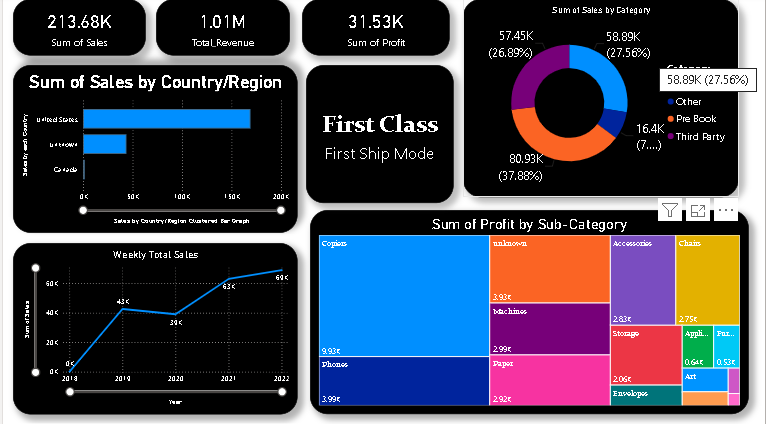

The page's visual inventory and layout, read from the dashboard file:
{"tool":"powerbi","page":{"name":"Page 5","canvas":[1280,720],"ordinal":2},"visuals":[{"type":"card","fields":{"Values":["Sheet1.Total_Revenue"]},"box":[256.7,5,225,95],"z":0},{"type":"card","fields":{"Values":["Sum(Sheet1.Sales)"]},"box":[16.7,5,223.3,95],"z":1000},{"type":"clusteredBarChart","fields":{"Category":["Sheet1.Country/Region"],"Y":["Sum(Sheet1.Sales)"]},"box":[16.7,116.7,478.3,281.7],"z":2000},{"type":"treemap","fields":{"Group":["Sheet1.Sub-Category"],"Values":["Sum(Sheet1.Profit)"]},"box":[515,360,736.7,343.3],"z":3000},{"type":"card","fields":{"Values":["Sum(Sheet1.Profit)"]},"box":[501.7,5,248.3,95],"z":4000},{"type":"lineChart","title":"Weekly Total Sales","fields":{"Category":["Sheet1.Starr_week.Variation.Date Hierarchy.Year","Sheet1.Starr_week.Variation.Date Hierarchy.Quarter","Sheet1.Starr_week.Variation.Date Hierarchy.Month","Sheet1.Starr_week.Variation.Date Hierarchy.Day"],"Y":["Sum(Sheet1.Sales)"]},"box":[16.7,415,478.3,288.3],"z":5000},{"type":"donutChart","fields":{"Series":["Sheet1.Category"],"Y":["Sum(Sheet1.Sales)"]},"box":[773.3,5,463.3,333.3],"z":6000},{"type":"card","fields":{"Values":["Min(Sheet1.Ship Mode)"]},"box":[508.3,116.7,248.3,231.7],"z":7000}]}

Visuals, with their boxes in screenshot pixels (x1, y1, x2, y2), scaled from the page's 1280x720 canvas onto the 766x424 screenshot:
card - Sheet1.Total_Revenue: locate(154, 3, 288, 59)
card - Sum(Sheet1.Sales): locate(10, 3, 144, 59)
clusteredBarChart - Sheet1.Country/Region x Sum(Sheet1.Sales): locate(10, 69, 296, 235)
treemap - Sheet1.Sub-Category x Sum(Sheet1.Profit): locate(308, 212, 749, 414)
card - Sum(Sheet1.Profit): locate(300, 3, 449, 59)
"Weekly Total Sales" lineChart: locate(10, 244, 296, 414)
donutChart - Sheet1.Category x Sum(Sheet1.Sales): locate(463, 3, 740, 199)
card - Min(Sheet1.Ship Mode): locate(304, 69, 453, 205)
